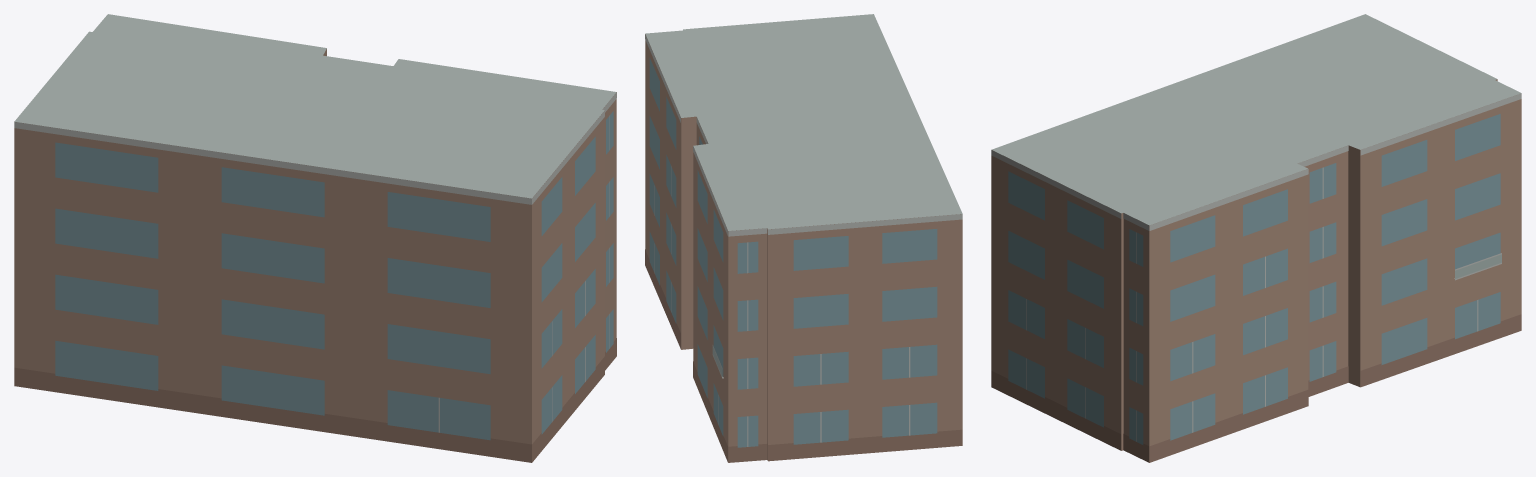
File: survey-upis-32632706.glb
3 renders of one model, left to right at view 1: azimuth 30°, elevation 25°; view 2: azimuth 150°, elevation 25°; view 3: azimuth 270°, elevation 25°, orthographic. The views are drawn at different scales.
Visible parts, largest first — view 1: survey-upis-32632706.tmp; view 2: survey-upis-32632706.tmp; view 3: survey-upis-32632706.tmp.
Boxes of the visible parts, x1,y1,x2,y2 form: survey-upis-32632706.tmp: (14, 14, 616, 462); survey-upis-32632706.tmp: (645, 14, 962, 462); survey-upis-32632706.tmp: (991, 14, 1521, 462).
Bounding box in the file's own units: 19.29 × 10.1 × 20.44.
